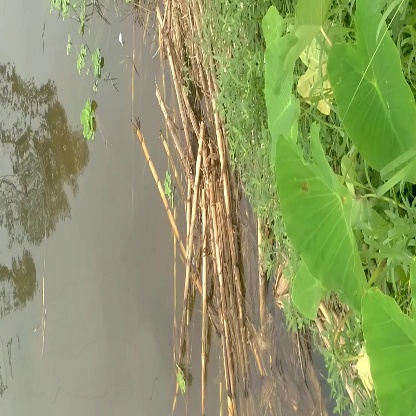branch: (153, 129, 238, 346)
